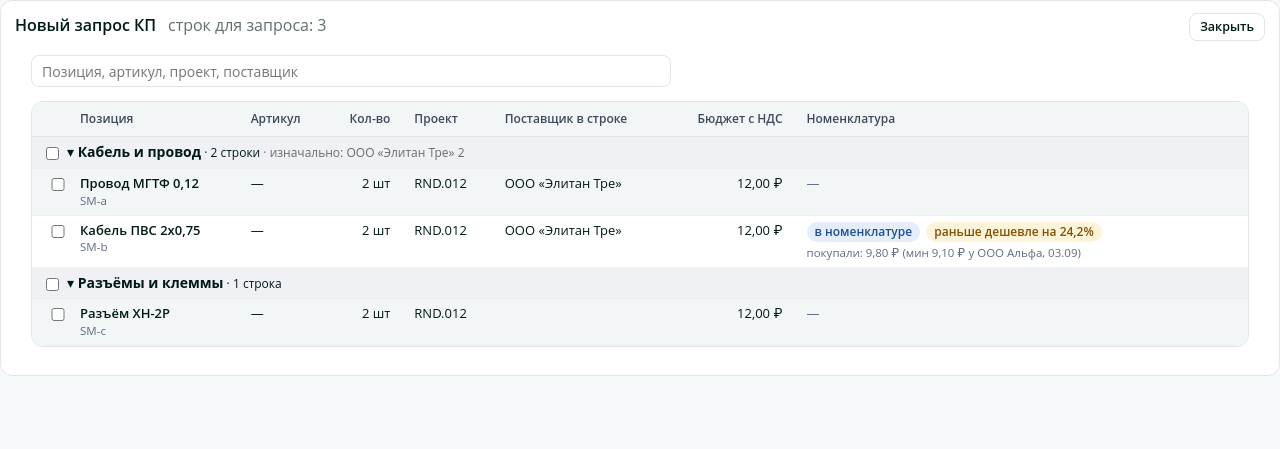
Test: the group checkbox selects the whole group and the bar asks for quotes
Click the checkbox named "Выбрать группу «Кабель и провод»" at coordinates (52, 154), box [46,148,59,160]
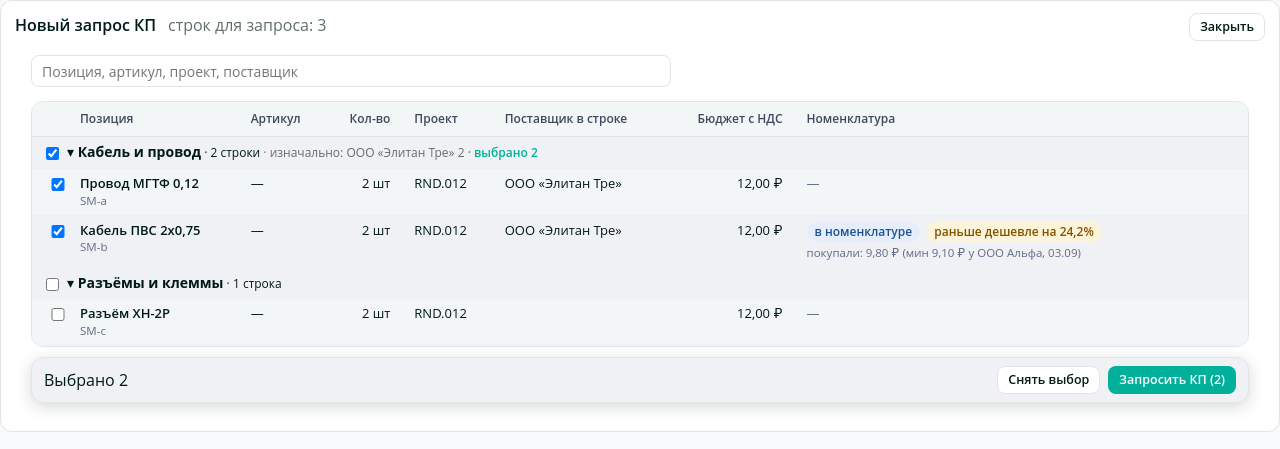
Expected: the checkbox named "Взять SM-a" is checked, [48,178,68,191]
Expected: the checkbox named "Взять SM-b" is checked, [48,225,68,238]
Expected: the text "Выбрано 2" is shown, [44,369,128,391]
